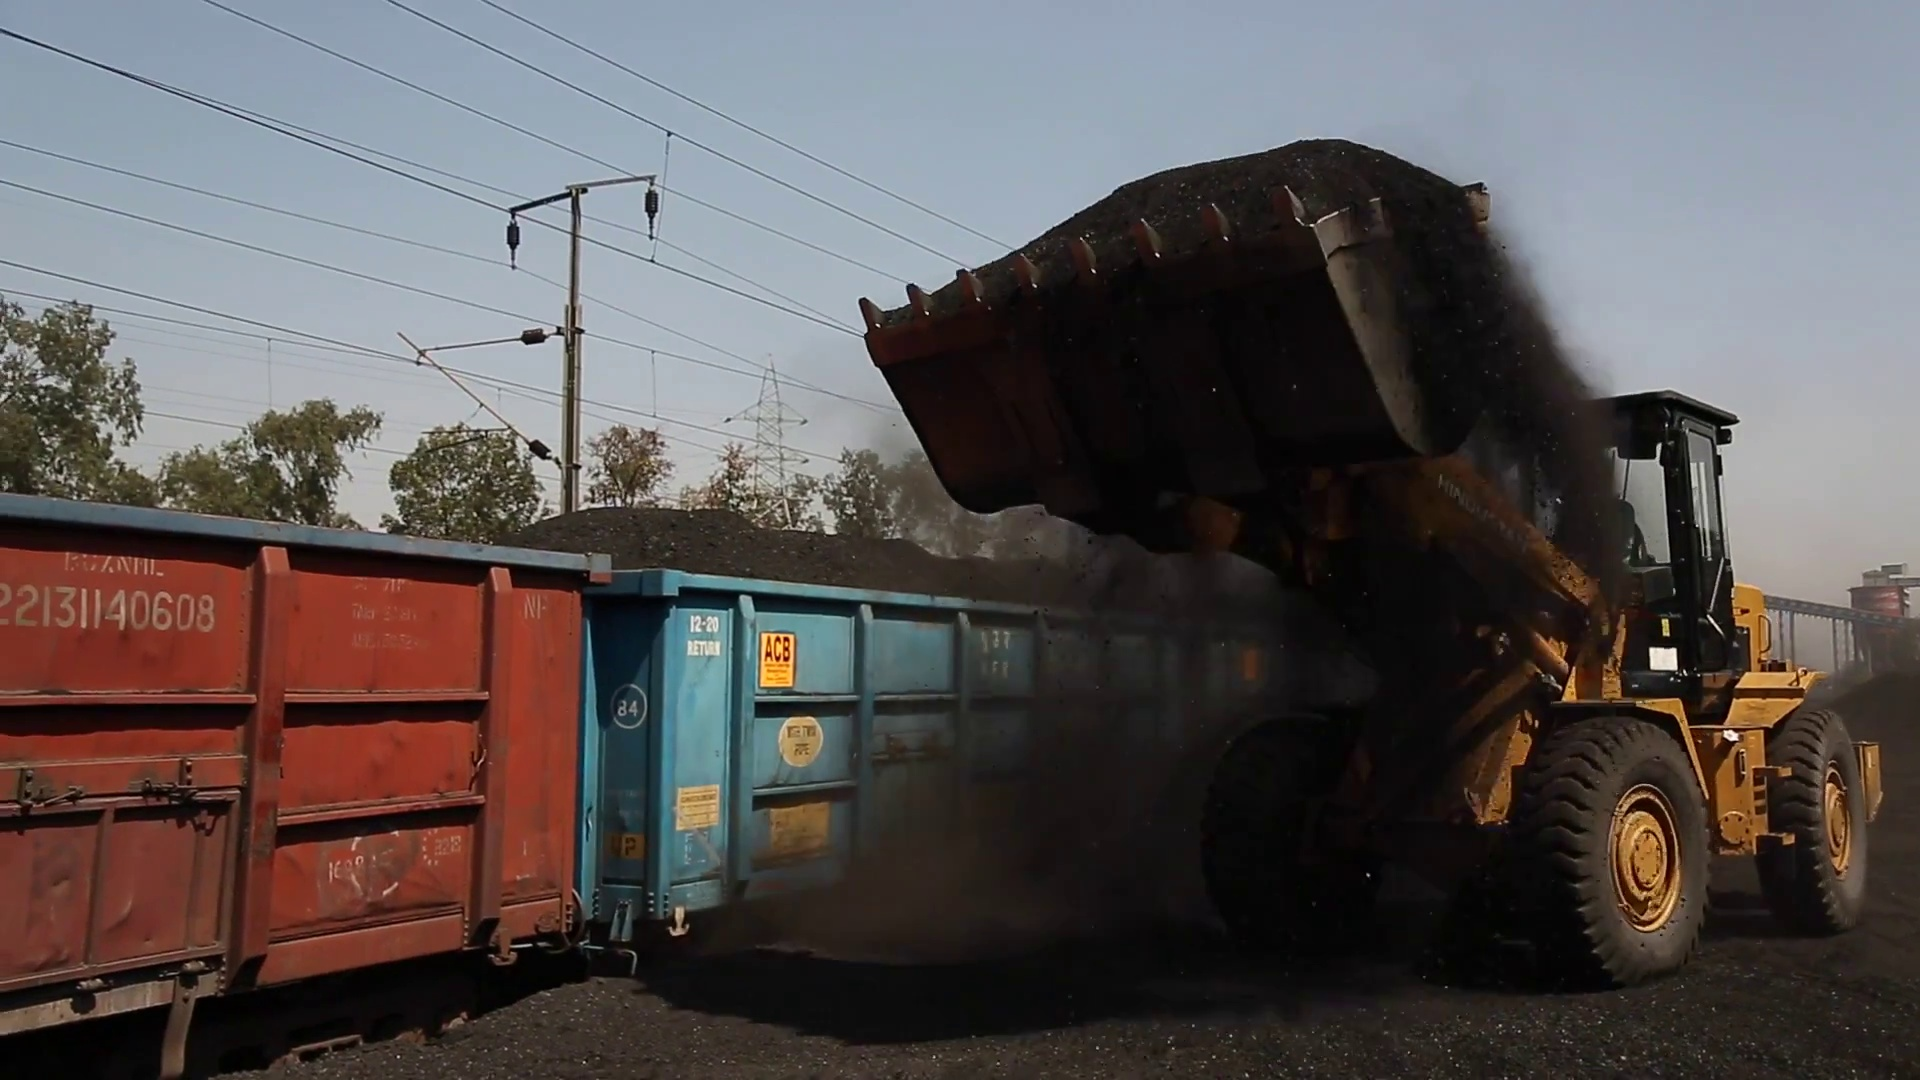wheel loader: (848, 127, 1883, 982)
